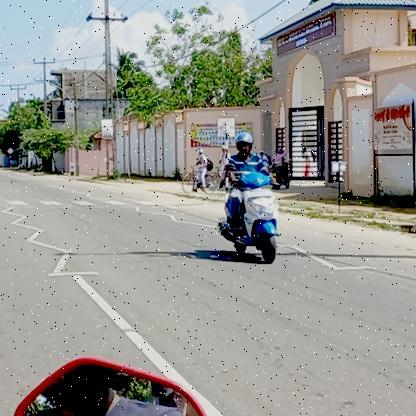motorcycle: (214, 171, 286, 265)
